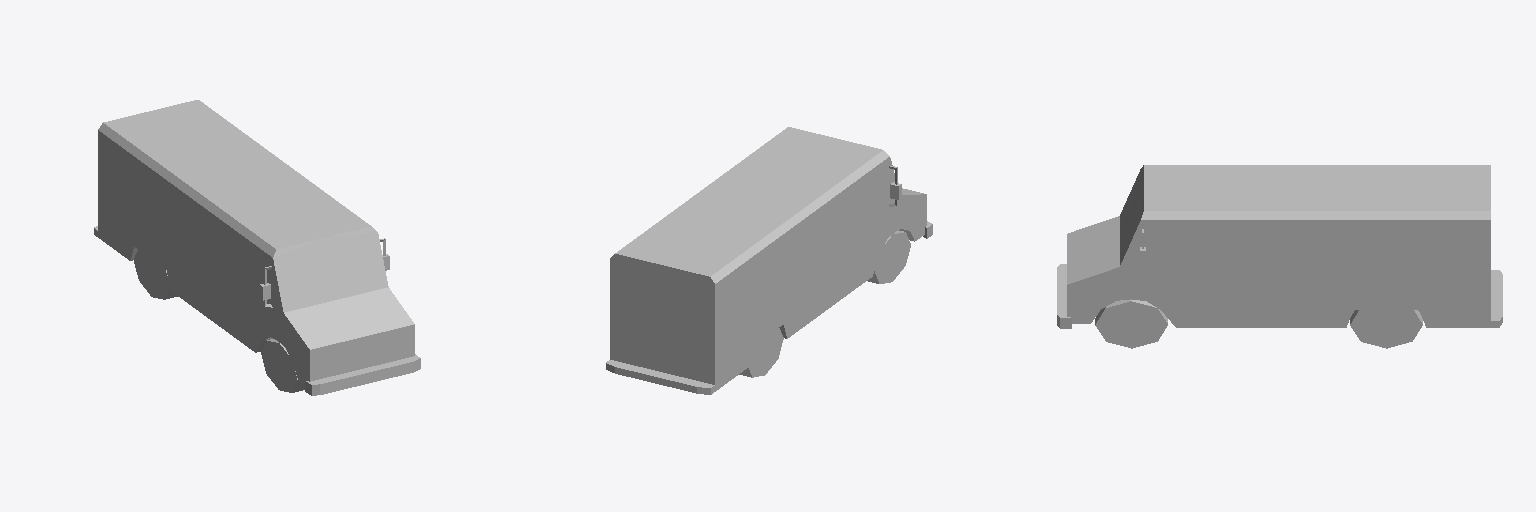
Rendered from Car8_o4.obj.
The picture shows the model from 3 angles: view 1: azimuth 30°, elevation 25°; view 2: azimuth 150°, elevation 25°; view 3: azimuth 270°, elevation 25°; orthographic projection.
Parts seen in each view (by area): view 1: Car8; view 2: Car8; view 3: Car8.
Part boxes in pixels (x1,y1,x2,y2): Car8: (94,100,420,395); Car8: (606,127,932,394); Car8: (1057,165,1502,348).
Bounding box in the file's own units: 1.63 × 1.66 × 4.96.